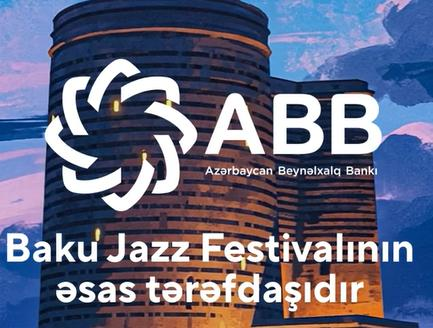ABB: (42, 55, 200, 213)
